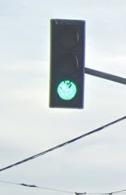greenlight: (53, 23, 83, 108)
